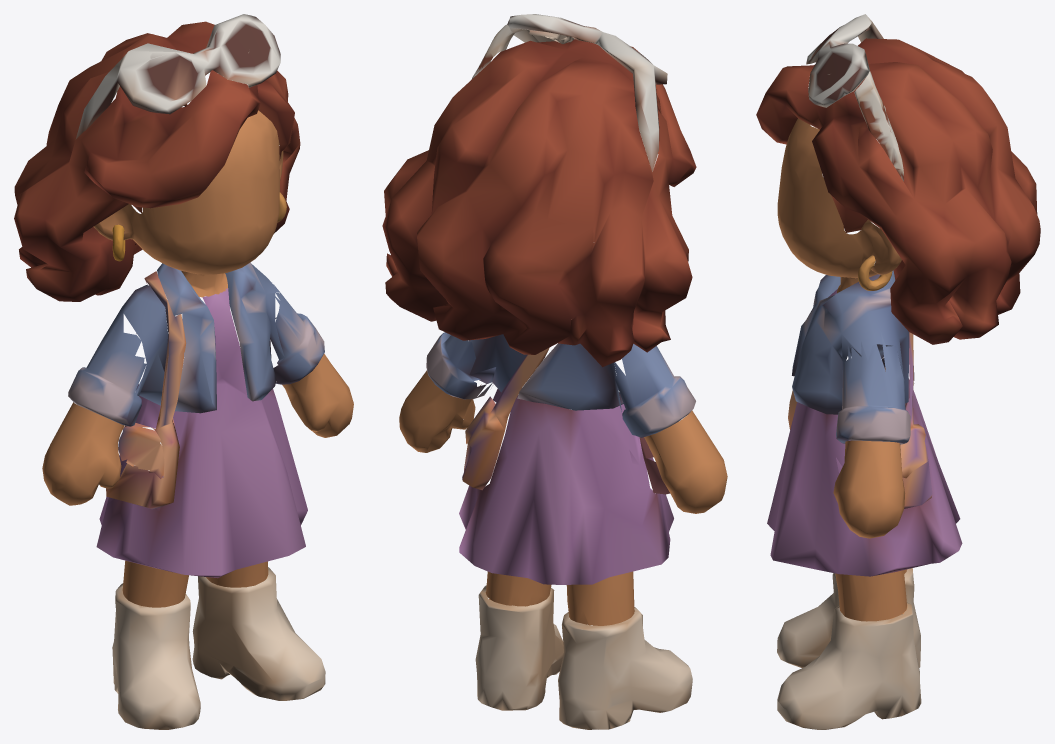
The picture shows the model from 3 angles, left to right: view 1: azimuth 30°, elevation 25°; view 2: azimuth 150°, elevation 25°; view 3: azimuth 270°, elevation 25°; orthographic projection. The views are drawn at different scales.
Visible parts, largest first — view 1: top, hair, head, bottom_l, acc_head_0, bottom_r, sleeve_r, hand_r, hand_l, sleeve_l, leg_r, leg_l; view 2: hair, top, bottom_r, bottom_l, hand_r, sleeve_r, acc_head_0, hand_l, leg_r, sleeve_l, leg_l, acc_head_1; view 3: hair, top, bottom_l, head, sleeve_l, hand_l, acc_head_0, bottom_r, leg_l, acc_head_1, acc_head_earl.
Boxes of the visible parts, x1,y1,x2,y2 form: top: [96, 262, 307, 578]; hair: [14, 21, 300, 301]; head: [93, 110, 283, 297]; bottom_l: [192, 567, 325, 700]; acc_head_0: [75, 14, 280, 139]; bottom_r: [112, 583, 200, 729]; sleeve_r: [68, 307, 164, 478]; hand_r: [42, 402, 124, 505]; hand_l: [282, 353, 353, 437]; sleeve_l: [271, 284, 324, 384]; leg_r: [122, 560, 188, 607]; leg_l: [206, 561, 268, 587]; hair: [382, 39, 696, 367]; top: [459, 319, 673, 584]; bottom_r: [558, 607, 692, 729]; bottom_l: [475, 585, 563, 710]; hand_r: [644, 410, 727, 513]; sleeve_r: [614, 344, 695, 464]; acc_head_0: [507, 14, 667, 171]; hand_l: [399, 370, 481, 452]; leg_r: [566, 571, 634, 625]; sleeve_l: [426, 332, 492, 399]; leg_l: [485, 571, 551, 606]; acc_head_1: [471, 24, 515, 79]; hair: [756, 38, 1040, 344]; top: [767, 270, 962, 576]; bottom_l: [777, 602, 921, 729]; head: [777, 118, 901, 293]; sleeve_l: [836, 333, 910, 473]; hand_l: [833, 440, 904, 538]; acc_head_0: [806, 14, 883, 107]; bottom_r: [777, 568, 920, 667]; leg_l: [835, 570, 907, 621]; acc_head_1: [854, 71, 903, 181]; acc_head_earl: [858, 255, 892, 290].
Bounding box in the file's own units: 0.4969 × 1.03 × 0.4078.
